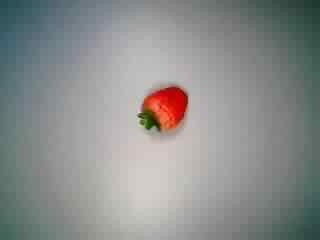strawberry: (132, 74, 191, 144)
